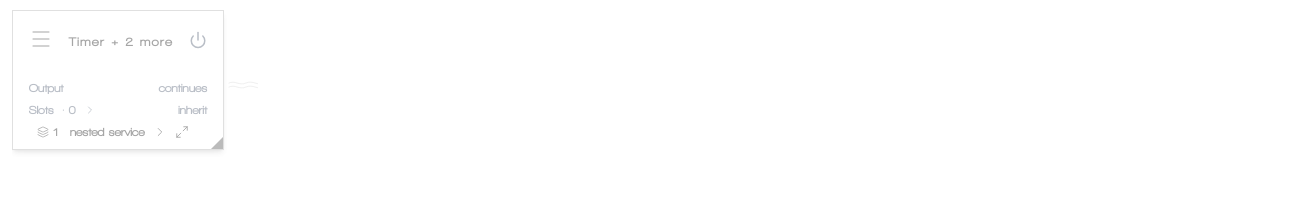
a sub-service inside a use of a block › offers one way onto its level, and it opens the level
Click the button titled "Open Timer + 2 more as its own level": (182, 132) top-left (175, 125), bottom-right (189, 139)
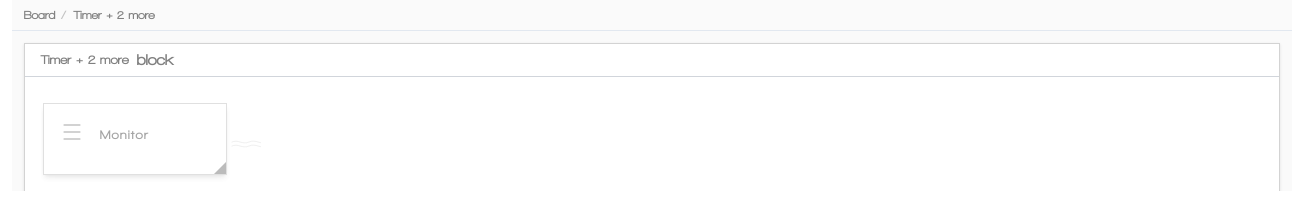
Result: the navigation bar named "Nested pipeline" is shown at top-left (12, 0), bottom-right (1291, 31)
